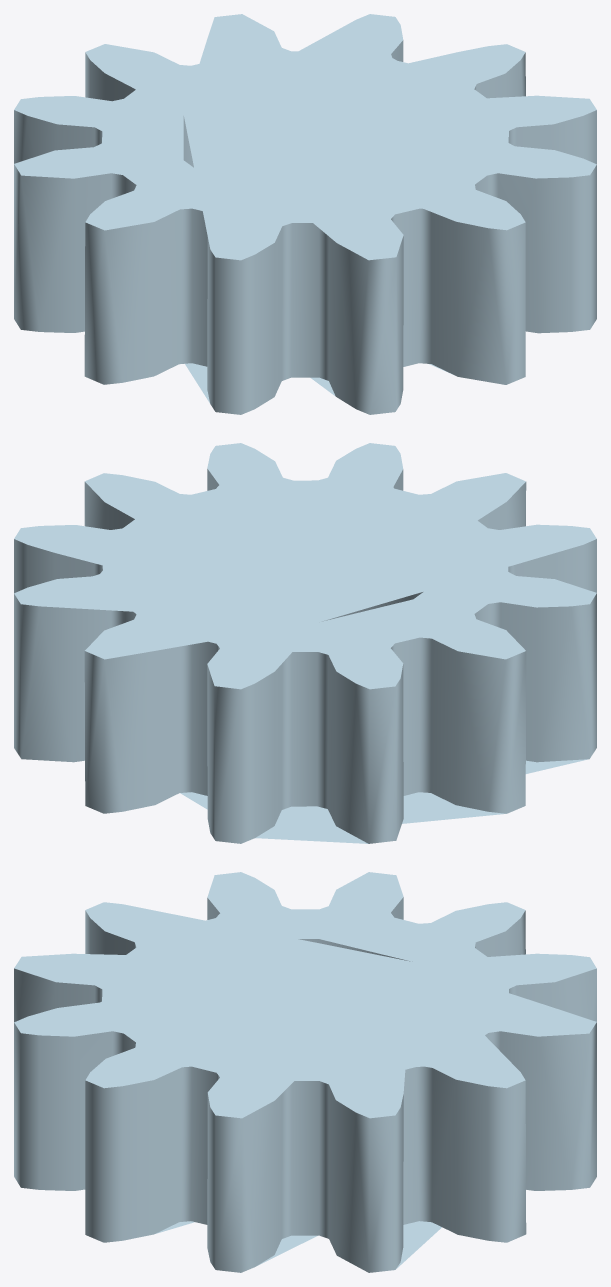
The model's file is pinion12t.fbx.
3 views of the same model, one above another, from view 1: azimuth 30°, elevation 25°; view 2: azimuth 150°, elevation 25°; view 3: azimuth 270°, elevation 25° (orthographic).
Parts seen in each view (by area): view 1: Spur gear (12 teeth); view 2: Spur gear (12 teeth); view 3: Spur gear (12 teeth).
Boxes of the visible parts, box(x1,y1,x2,y2) form: Spur gear (12 teeth): box(14, 14, 596, 414); Spur gear (12 teeth): box(14, 443, 596, 843); Spur gear (12 teeth): box(14, 872, 596, 1272).
Bounding box in the file's own units: 1.74 × 0.508 × 1.74.
